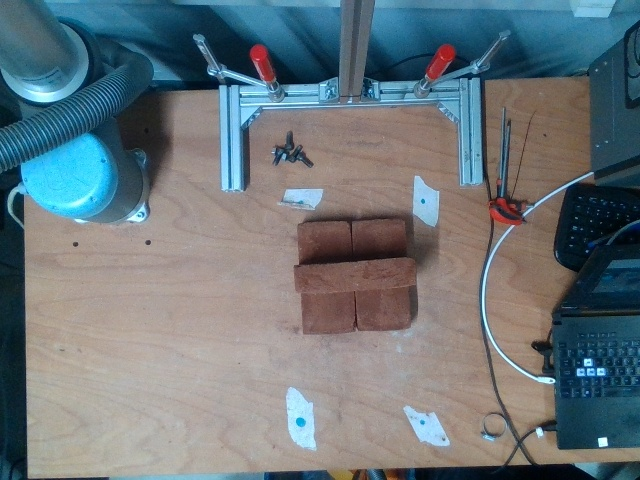brick-side: (295, 258, 416, 292)
